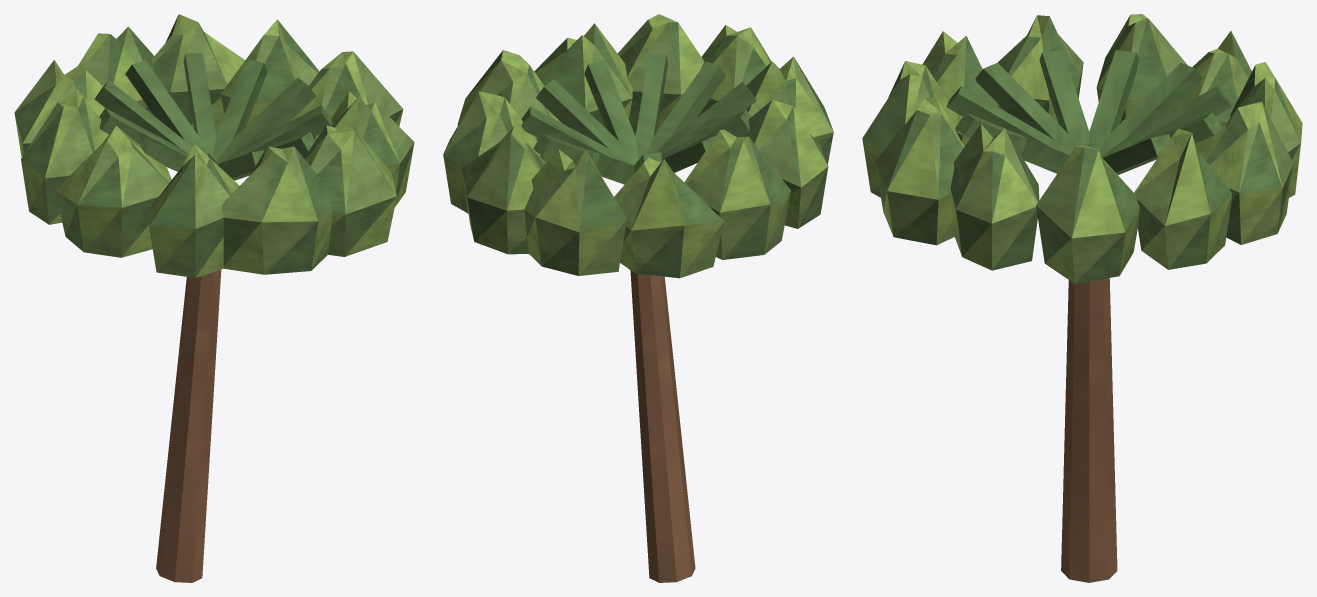
Rendered from palm_small_01.fbx.
The picture shows the model from 3 angles, left to right: view 1: azimuth 30°, elevation 25°; view 2: azimuth 150°, elevation 25°; view 3: azimuth 270°, elevation 25°; orthographic projection. The views are drawn at different scales.
Parts seen in each view (by area): view 1: palm_small_01; view 2: palm_small_01; view 3: palm_small_01.
Part boxes in pixels (x1,y1,x2,y2): palm_small_01: (14, 14, 414, 582); palm_small_01: (443, 14, 833, 582); palm_small_01: (862, 14, 1302, 582).
Size of the model in its own units: 328 by 440 by 340.
1 material, 1 textured.
